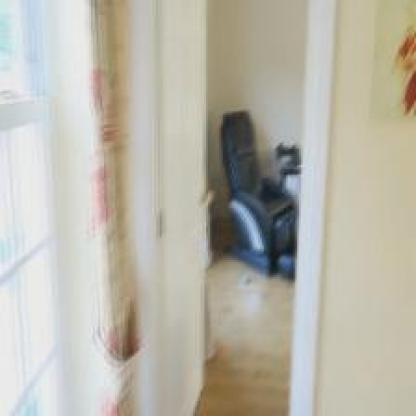other: (394, 25, 412, 106)
